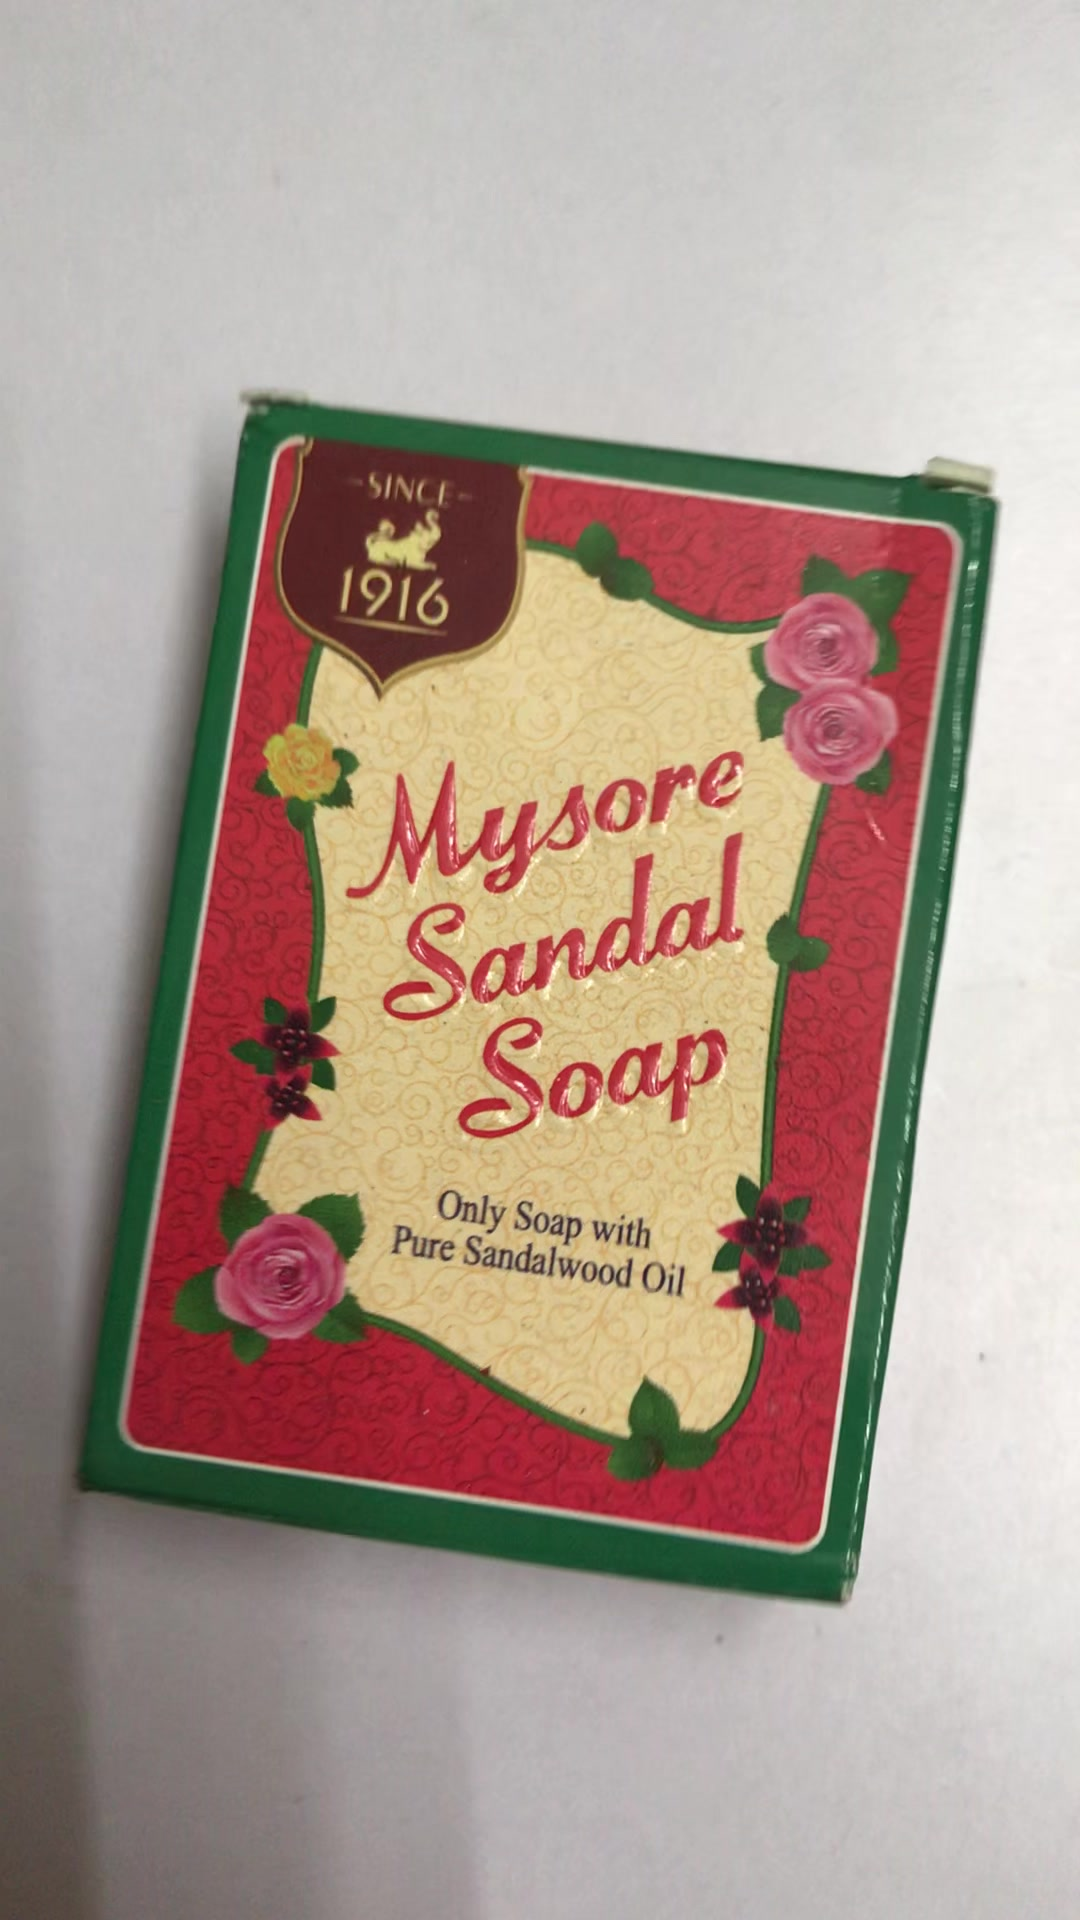mysore sandal soap: (76, 392, 997, 1604)
